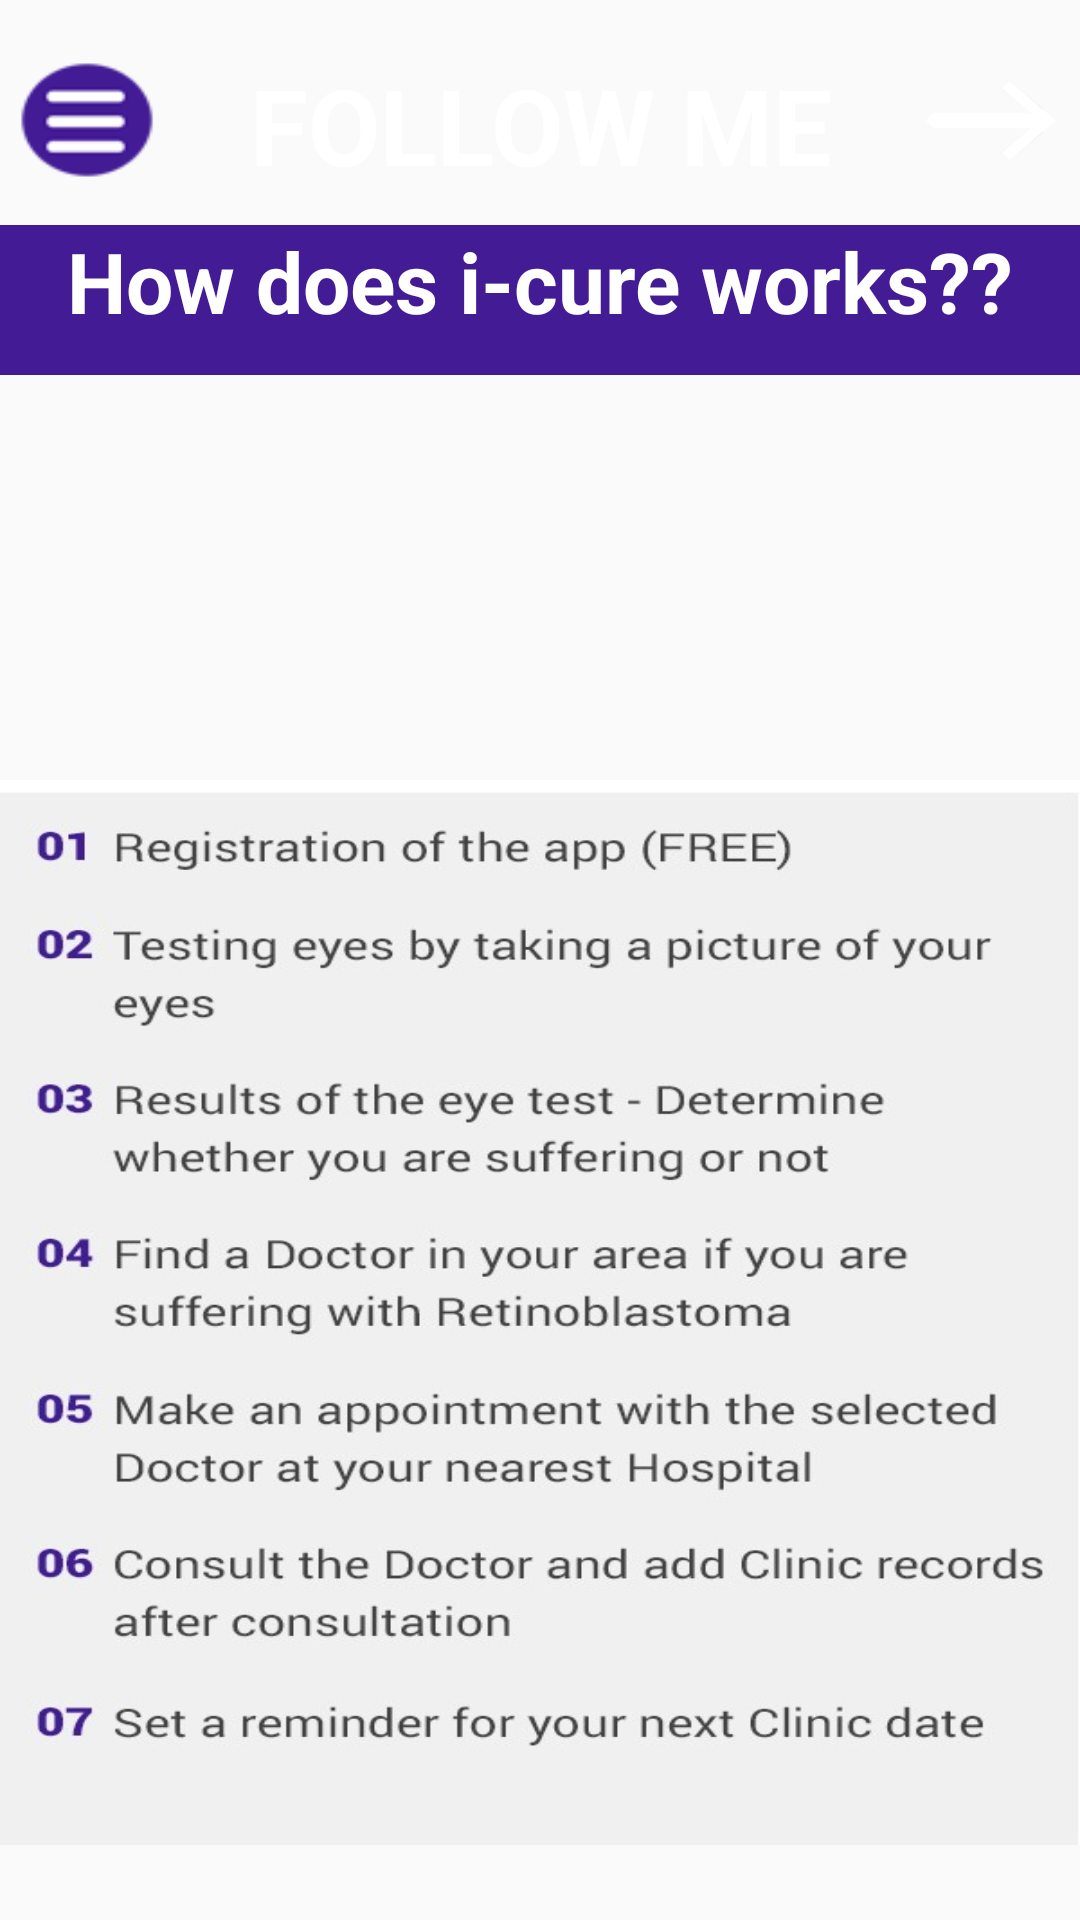

Locate icon controls on the screen. Image size 1080px×1920px, boxes as (x1, y1, x2, y2).
menu: (21, 63, 153, 177)
